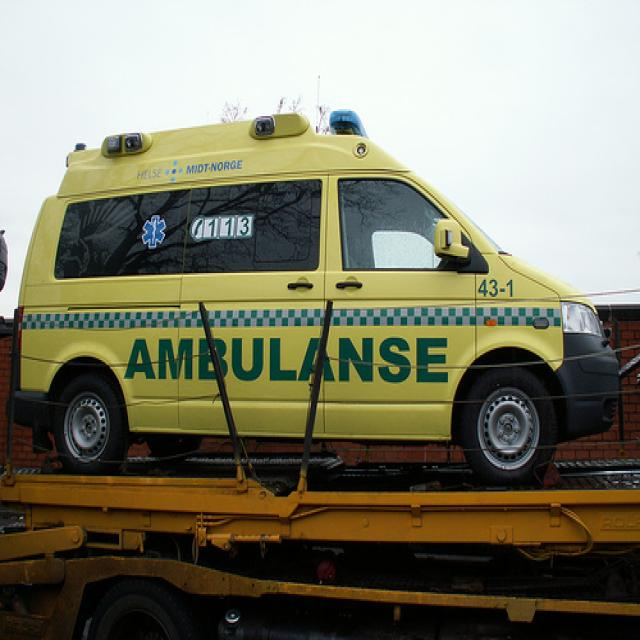emergency-vehicle: (14, 104, 622, 490)
